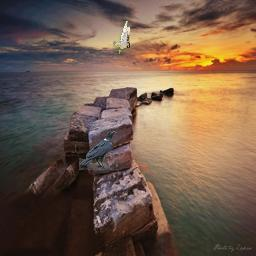Crow: (79, 130, 116, 170)
Sparrow: (113, 21, 130, 55)
